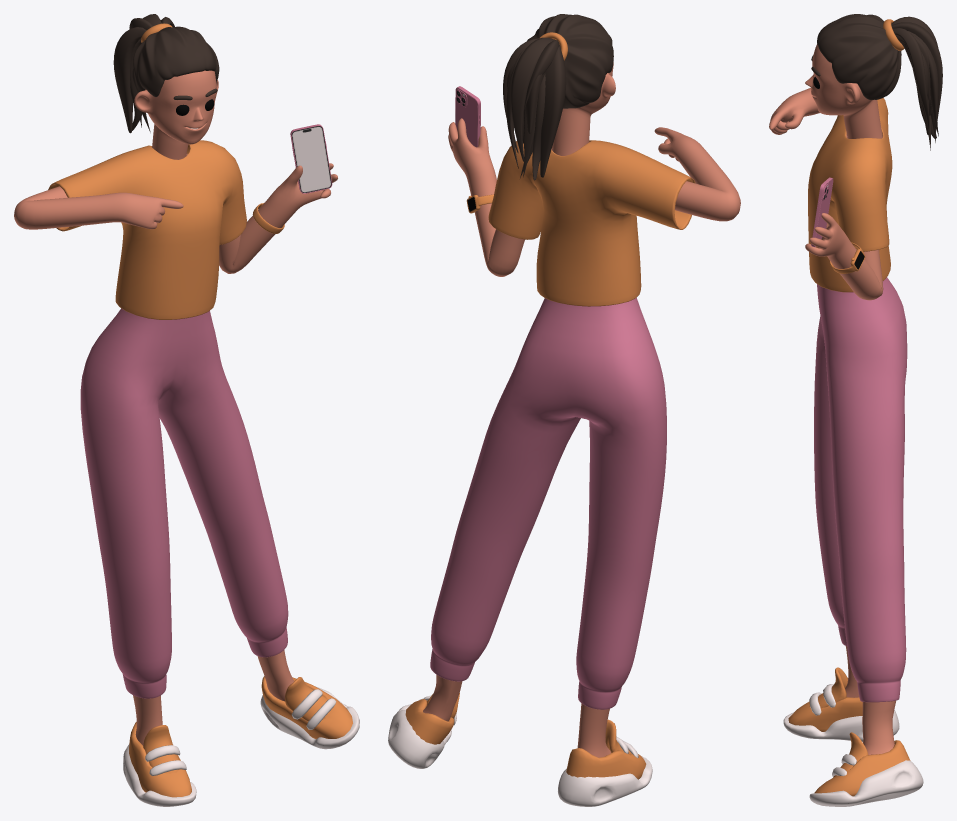
Rendered from icons8_young_woman_standing_and_pointing_at_her_phone.fbx.
3 renders of one model, left to right at view 1: azimuth 30°, elevation 25°; view 2: azimuth 150°, elevation 25°; view 3: azimuth 270°, elevation 25°, orthographic. The views are drawn at different scales.
Visible parts, largest first — view 1: icons8_young_woman_standing_and_pointing_at_her_phone; view 2: icons8_young_woman_standing_and_pointing_at_her_phone; view 3: icons8_young_woman_standing_and_pointing_at_her_phone.
Boxes of the visible parts, x1,y1,x2,y2 form: icons8_young_woman_standing_and_pointing_at_her_phone: (14, 14, 359, 806); icons8_young_woman_standing_and_pointing_at_her_phone: (388, 14, 740, 806); icons8_young_woman_standing_and_pointing_at_her_phone: (769, 14, 942, 806).
Size of the model in its own units: 152 by 324 by 70.16.
